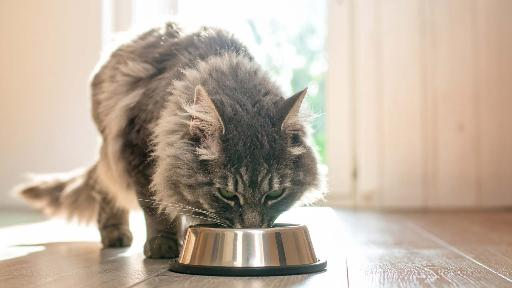cat_eating: (20, 22, 326, 276)
